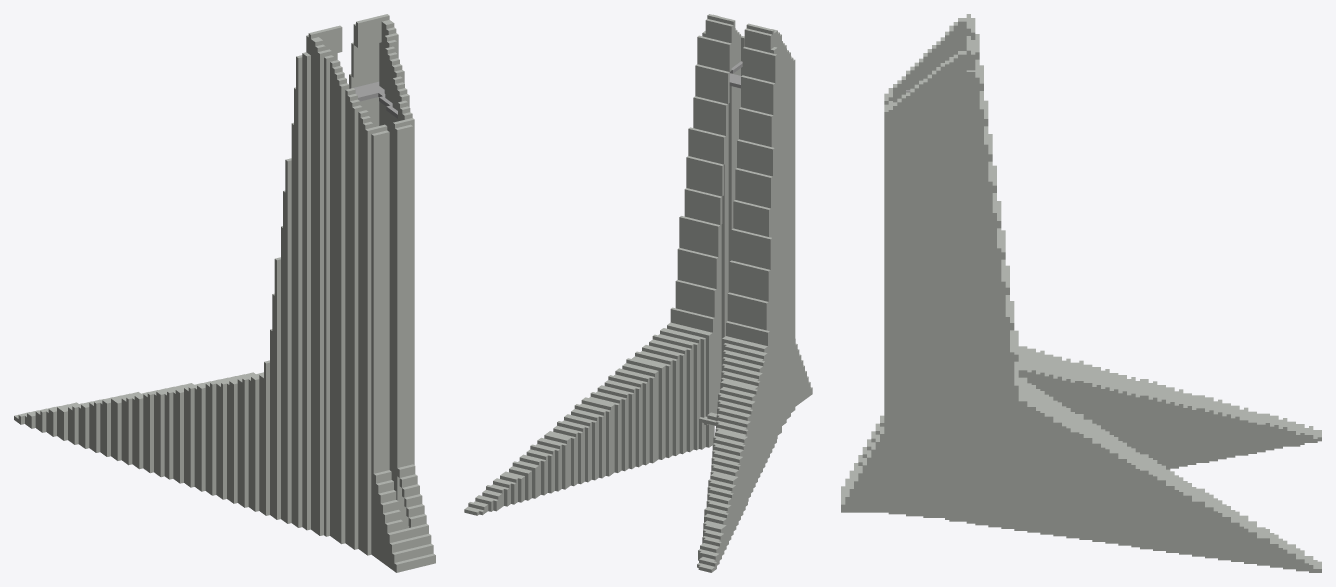
File: Light House (Full Size)-0.obj
The picture shows the model from 3 angles, left to right: view 1: azimuth 30°, elevation 25°; view 2: azimuth 150°, elevation 25°; view 3: azimuth 270°, elevation 25°; orthographic projection. The views are drawn at different scales.
Visible parts, largest first — view 1: Light House (Full Size)-0; view 2: Light House (Full Size)-0; view 3: Light House (Full Size)-0.
Boxes of the visible parts, x1,y1,x2,y2 form: Light House (Full Size)-0: (14, 14, 435, 572); Light House (Full Size)-0: (464, 14, 812, 572); Light House (Full Size)-0: (841, 14, 1321, 572).
Bounding box in the file's own units: 76 × 120 × 111.
1 material, 1 textured.
